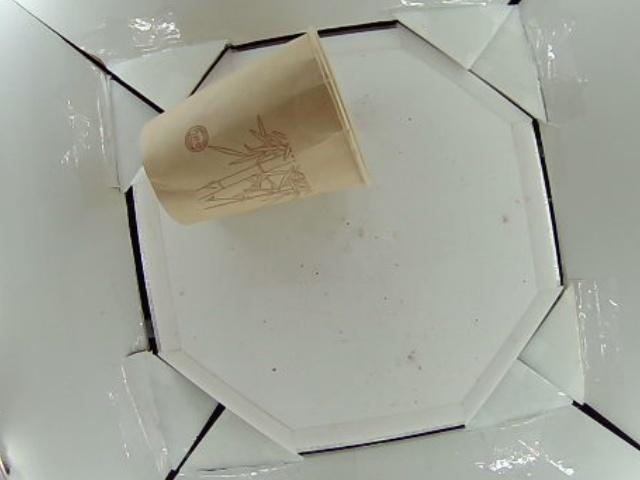Cup: (139, 25, 367, 225)
